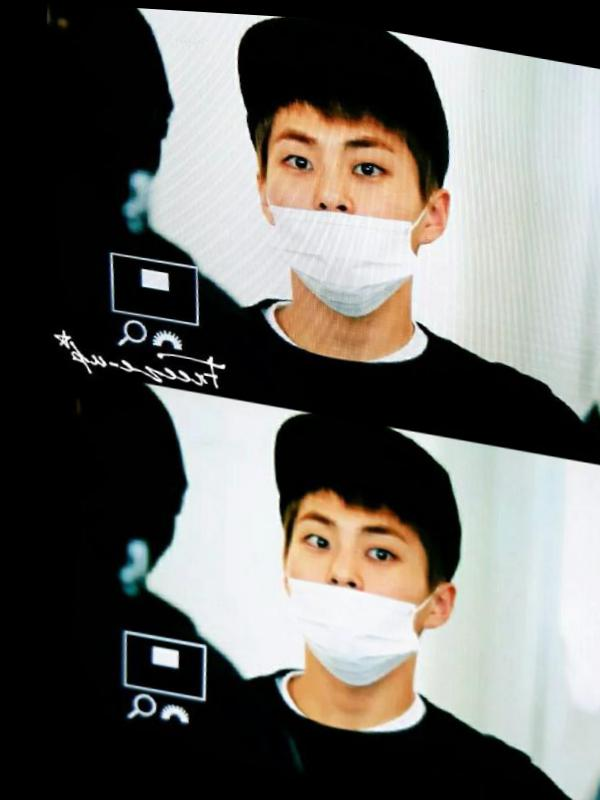WRONG: (242, 90, 439, 324), (257, 481, 437, 696)
